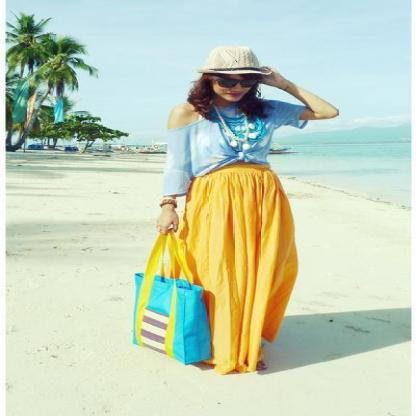bag: (133, 233, 209, 365)
hat: (202, 40, 262, 74)
shirt: (151, 99, 311, 207)
skirt: (162, 164, 298, 374)
sunglass: (198, 67, 272, 91)
